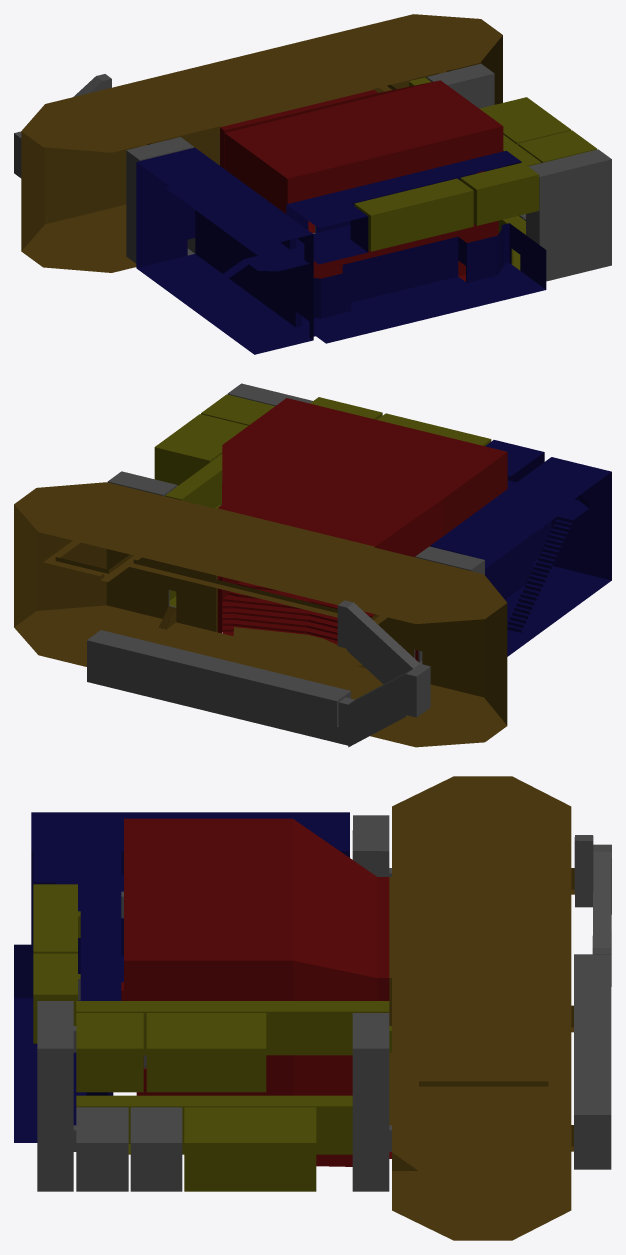
File: game map textured no objects.glb
3 views of the same model, one above another, from view 1: azimuth 30°, elevation 25°; view 2: azimuth 150°, elevation 25°; view 3: azimuth 270°, elevation 25° (orthographic). The views are drawn at different scales.
Visible parts, largest first — view 1: Map, all roofs; view 2: Map, all roofs; view 3: all roofs, Map.
Part boxes in pixels (bbox=[...]): Map: bbox=[14, 35, 611, 354]; all roofs: bbox=[14, 14, 611, 248]; Map: bbox=[14, 393, 611, 747]; all roofs: bbox=[14, 383, 611, 704]; all roofs: bbox=[31, 776, 611, 1142]; Map: bbox=[14, 830, 611, 1240].
Bounding box in the file's own units: 120 × 42.08 × 100.
